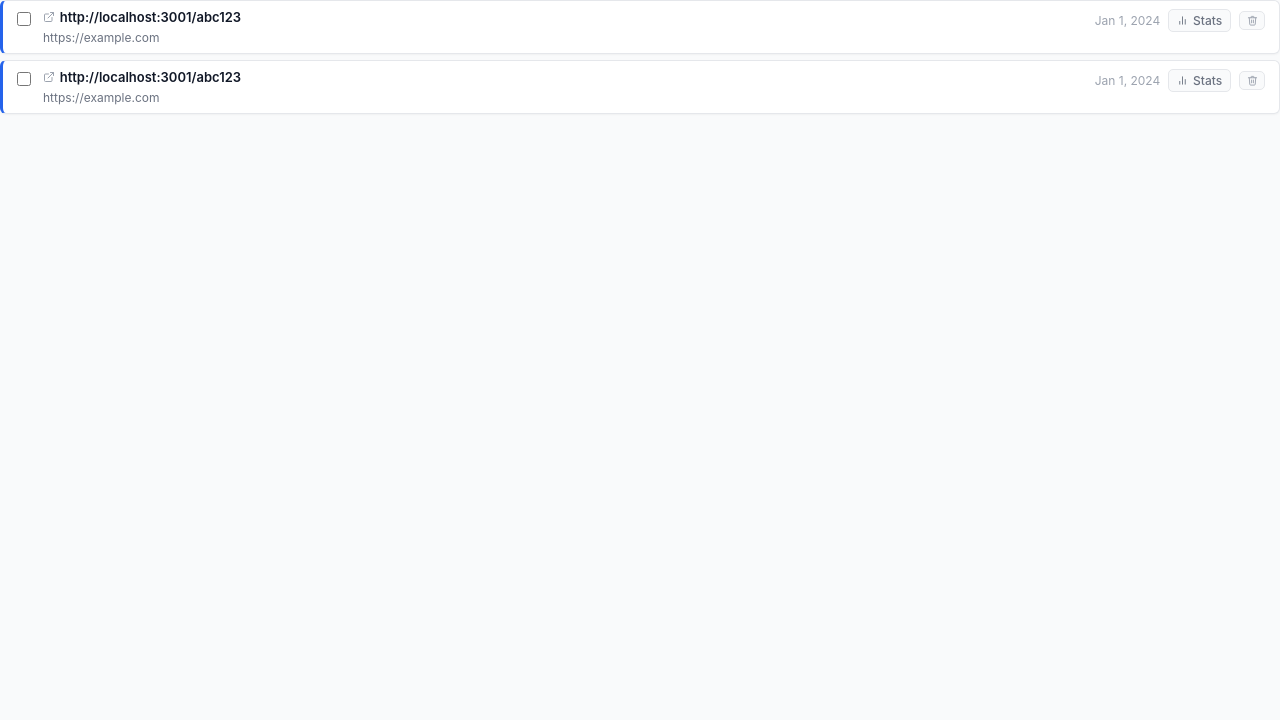
it: Table › supports selecting URLs and bulk-deleting them
Click the checkbox named "Select /foo" at (24, 19), box [17,12,31,26]
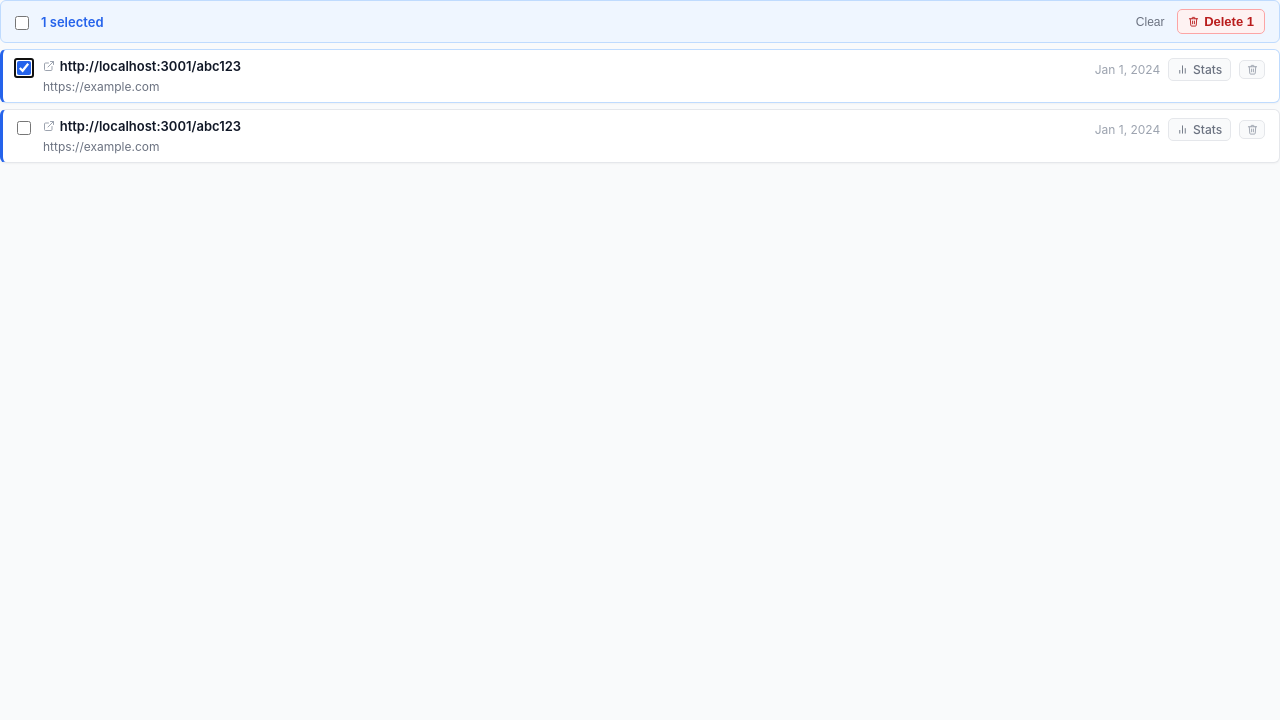
Click the checkbox named "Select /bar" at (24, 128), box [17,121,31,135]
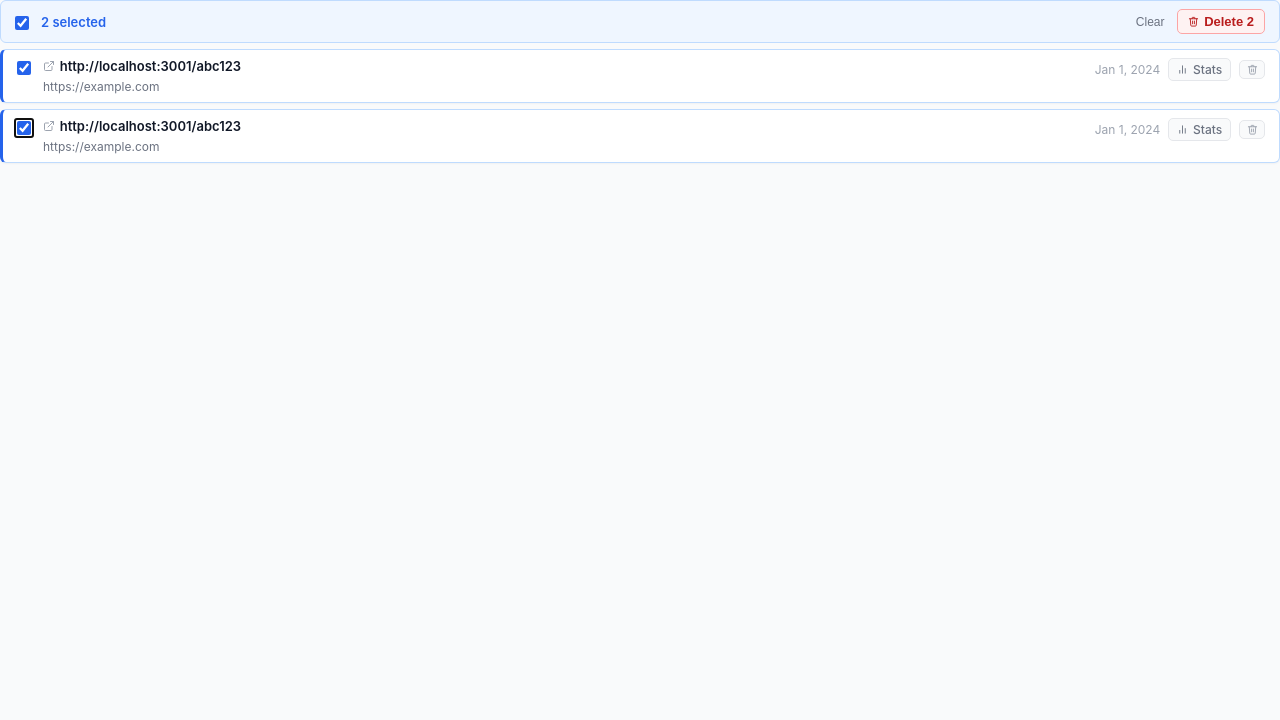
Expected: the text "2 selected" is shown, [41,14,106,30]
Click the button "Delete 2" at (1221, 22), box [1176,9,1265,34]
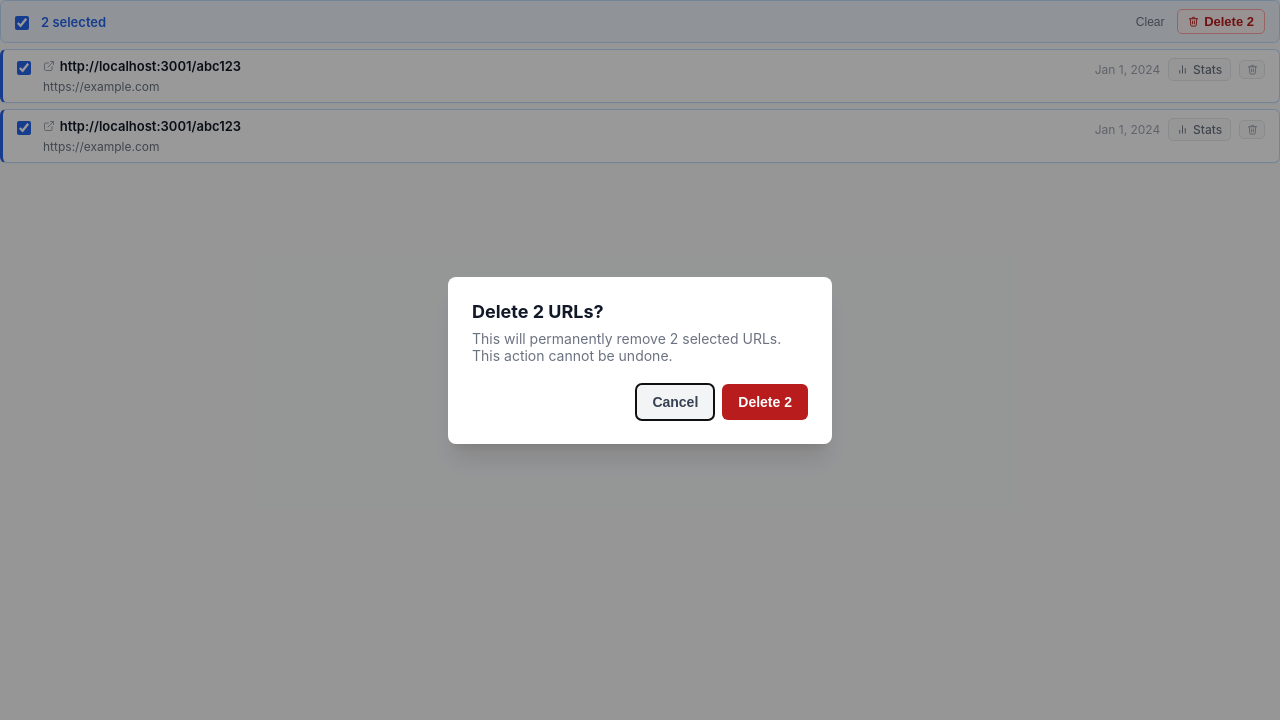
Expected: the heading "Delete 2 URLs?" is shown, [472,300,604,322]
Click the button "Delete 2" at (765, 402), box [722,384,808,420]
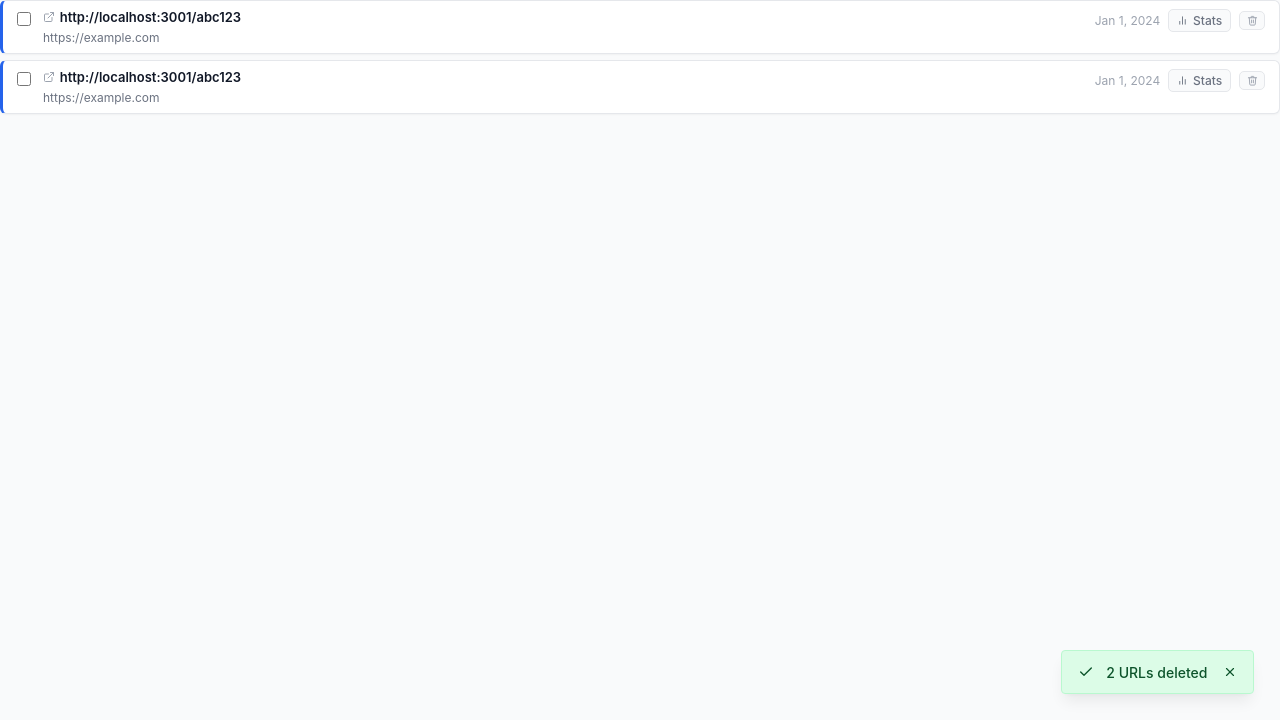
Expected: the text "2 URLs deleted" is shown, [1106,664,1207,681]
